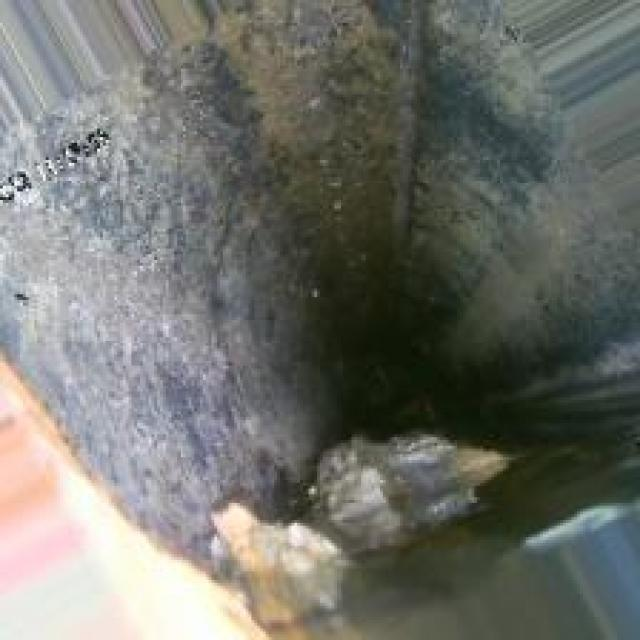stone: (192, 414, 528, 612)
